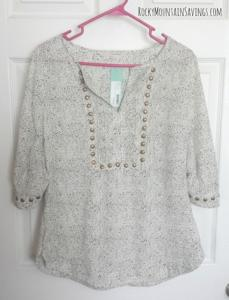C_blouse: (13, 30, 217, 292)
